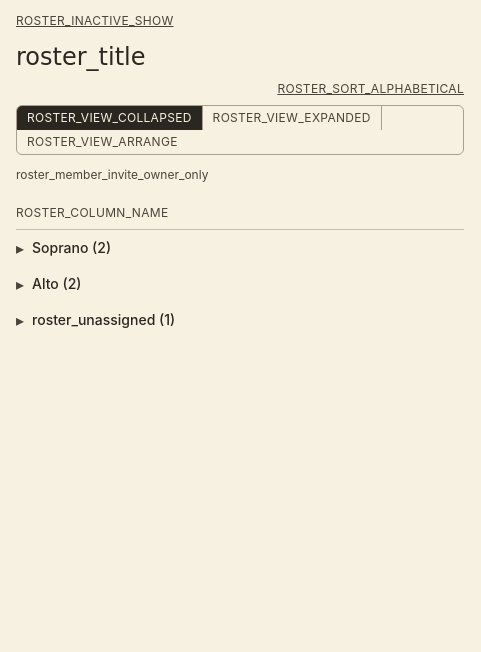
Test: /roster — control position (#468): upper right on the card, lifted by tree order alone › the wrapper is `absolute top-1 right-1` with NO z- class, and FOLLOWS the roster-row-card activator in tree order inside the same (already-relative) <li>
Check: the element with test id "roster-groups" is shown, box 16,230 -> 464,338
Click the button with test id "roster-view-chip-expanded" at [292, 118], box 203,106 -> 382,130
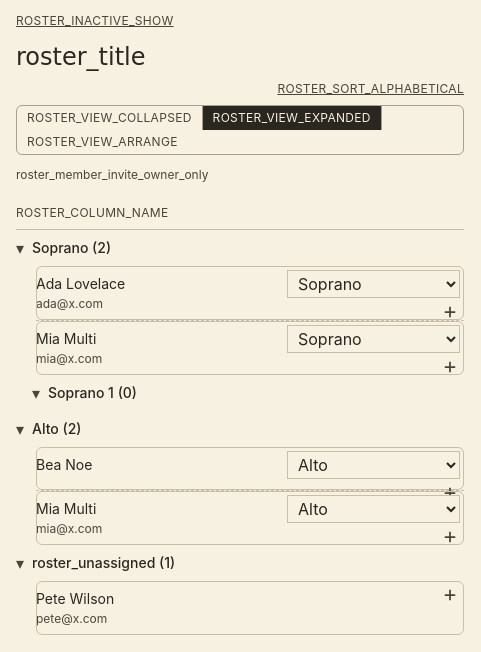
Check: the list item with test id "roster-row-" is shown, box 36,266 -> 464,321
Check: the dropdown with test id "section-picker-" is shown, box 287,270 -> 460,298
